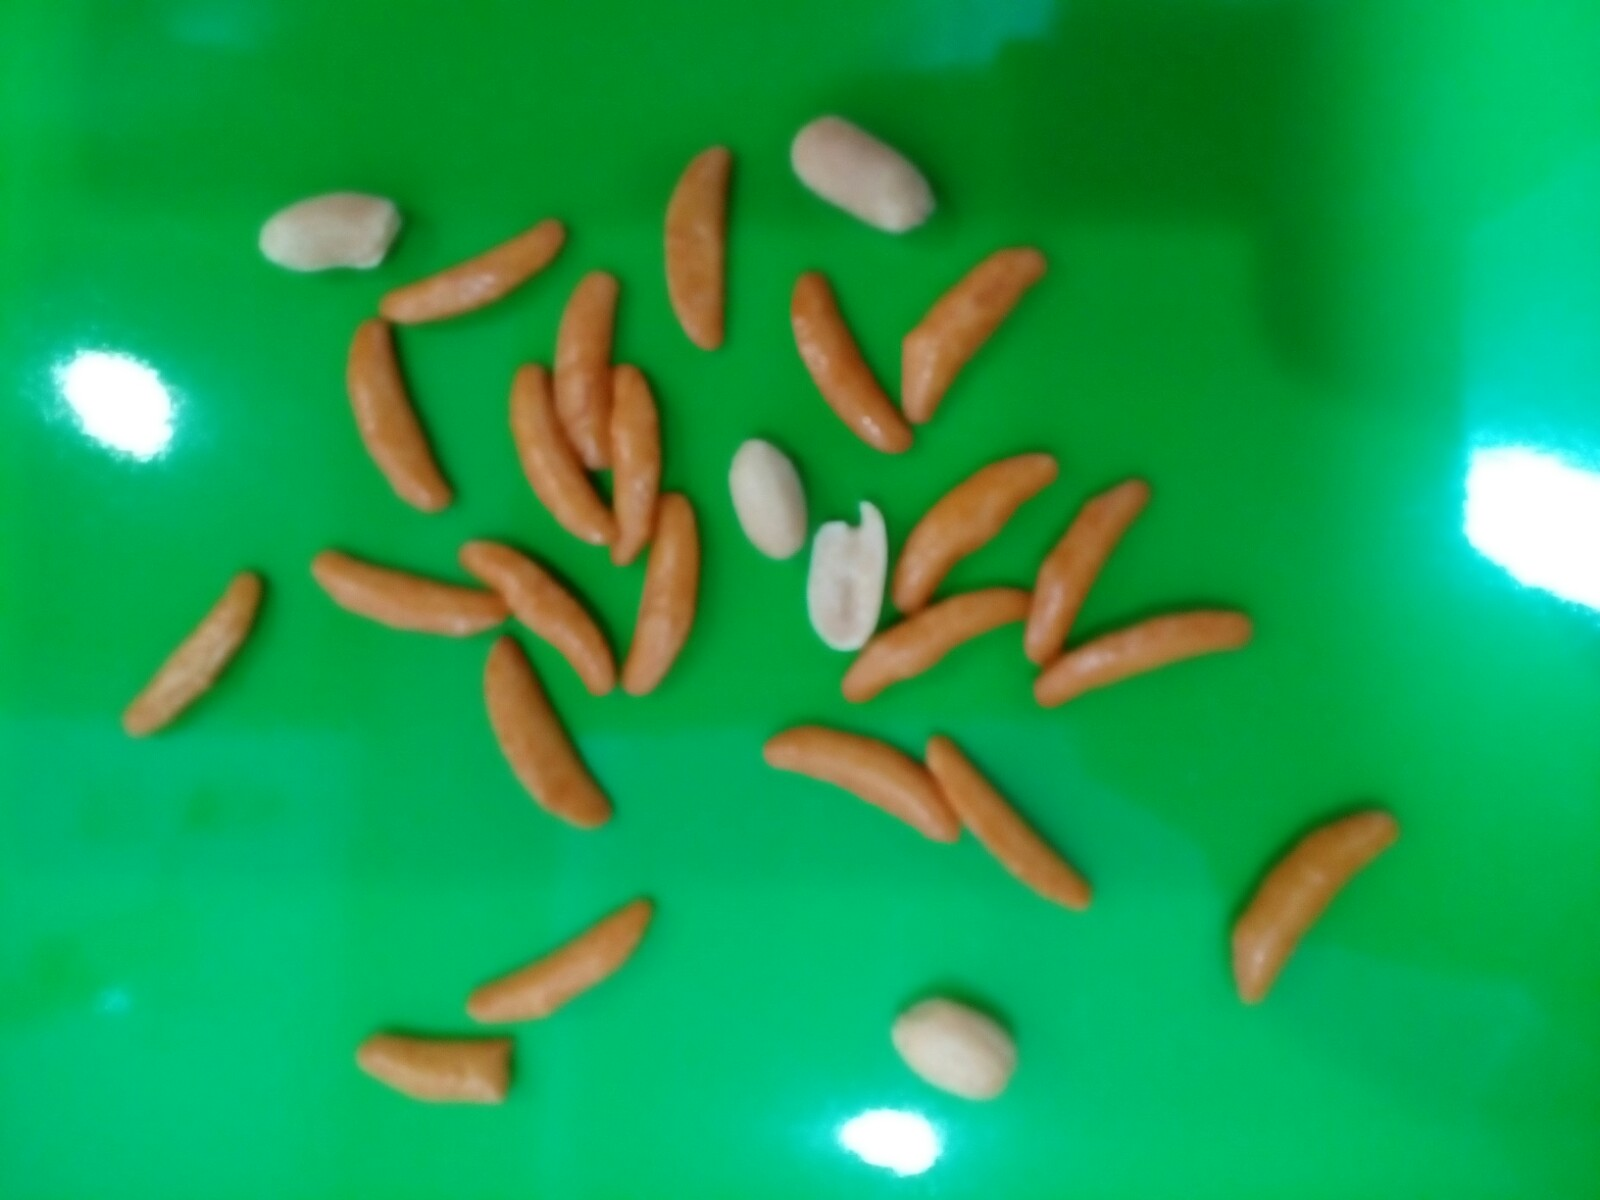peanut: (791, 103, 941, 238), (883, 984, 1033, 1108), (243, 176, 406, 277), (797, 487, 892, 658), (718, 434, 816, 568)
